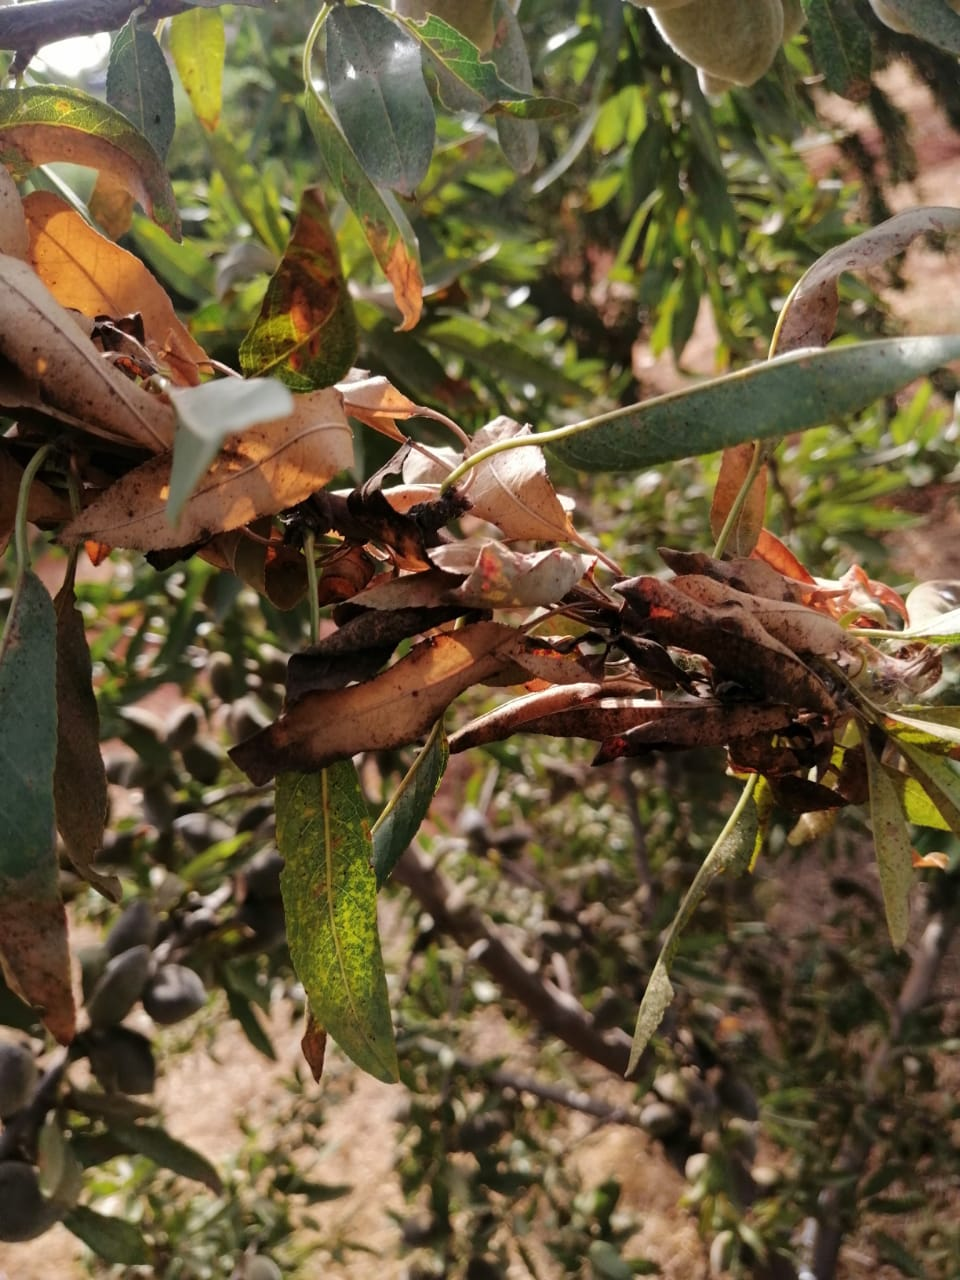scolytes: (1, 191, 945, 788)
